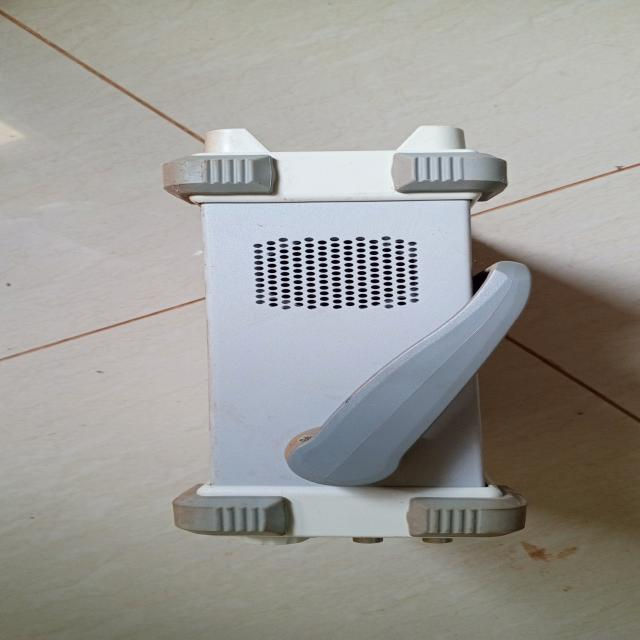Function Arbitrary Wave Form Generator 25Mhz: (126, 113, 584, 554)
